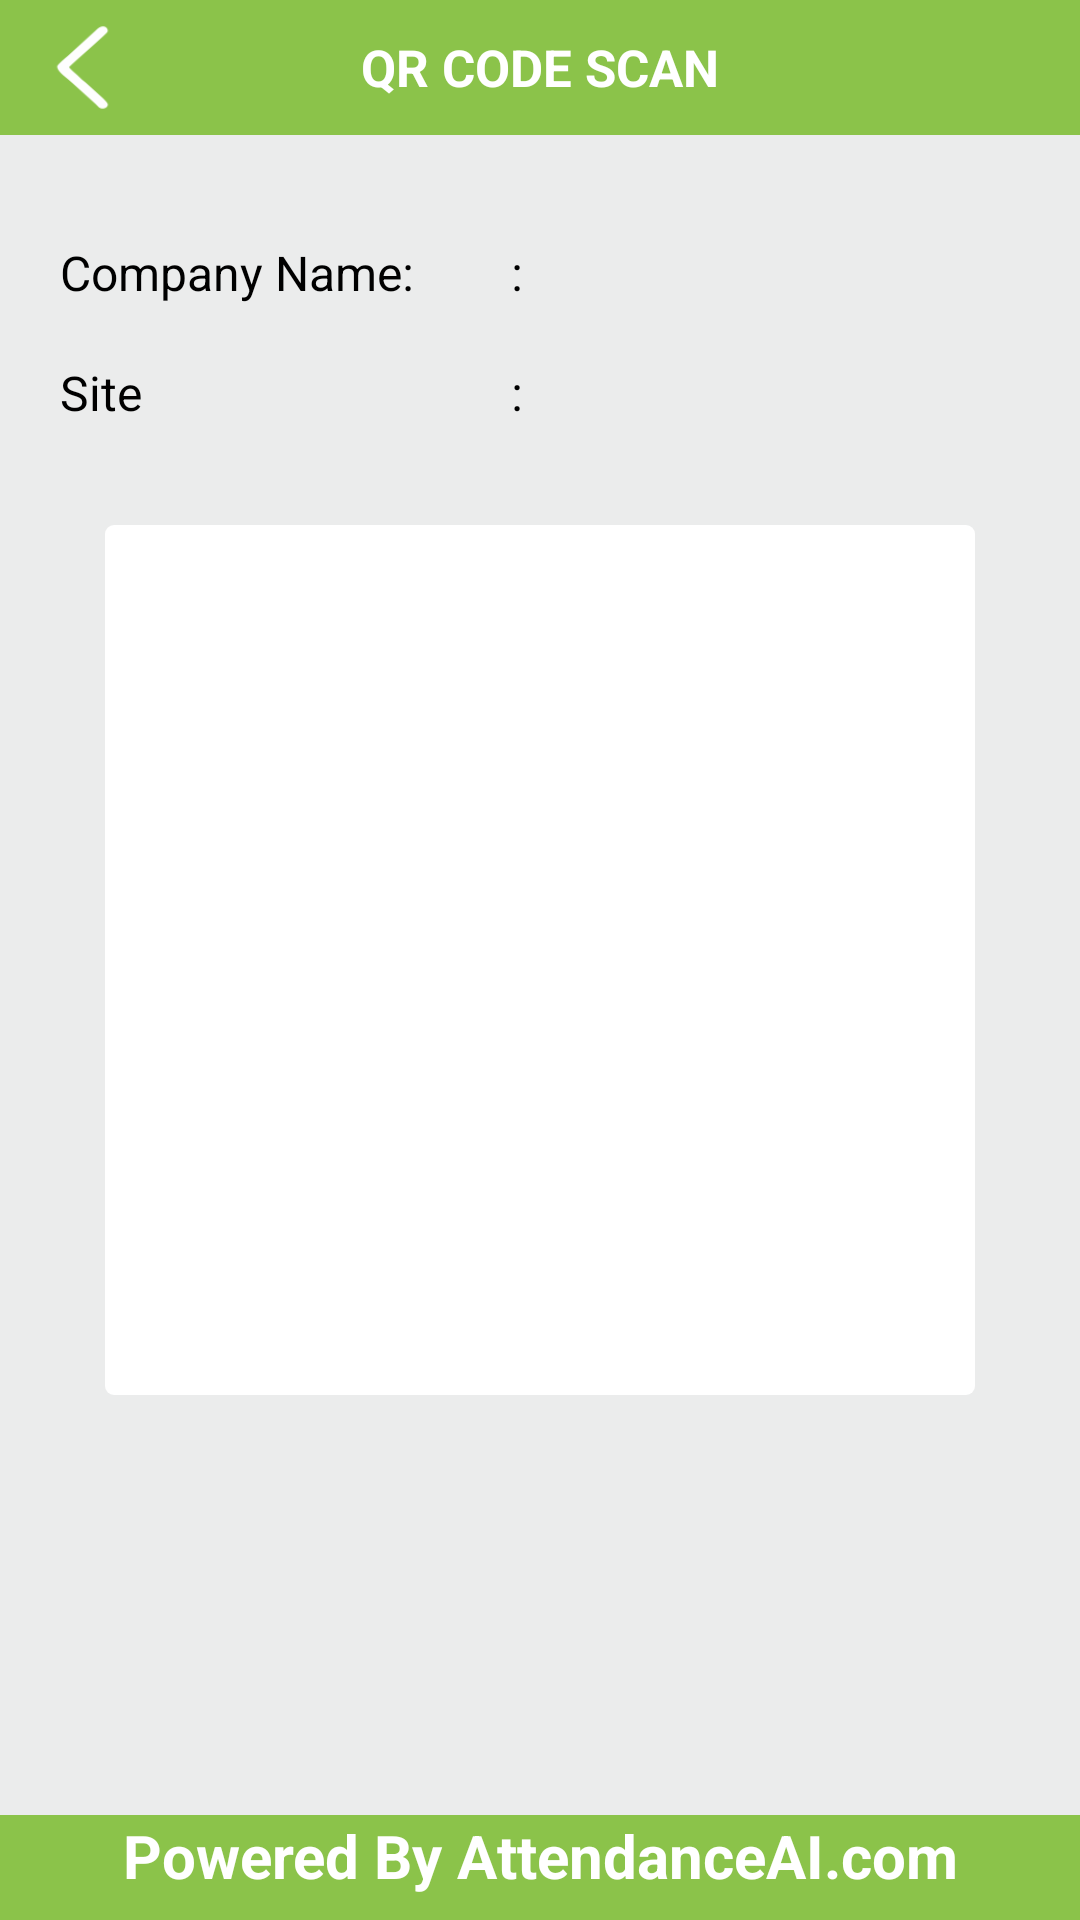

Icon bounding boxes for this 1080 x 1920 phone screenshot, format bbox=(x1, y1, x2, y2):
back arrow: bbox=(57, 26, 109, 109)
